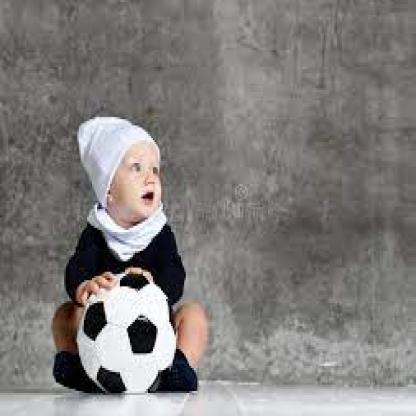ball: (79, 271, 173, 395)
